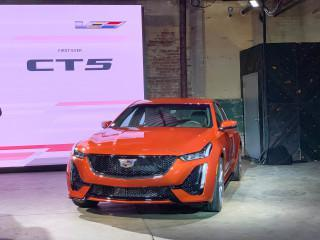cadillac: (113, 154, 142, 171)
